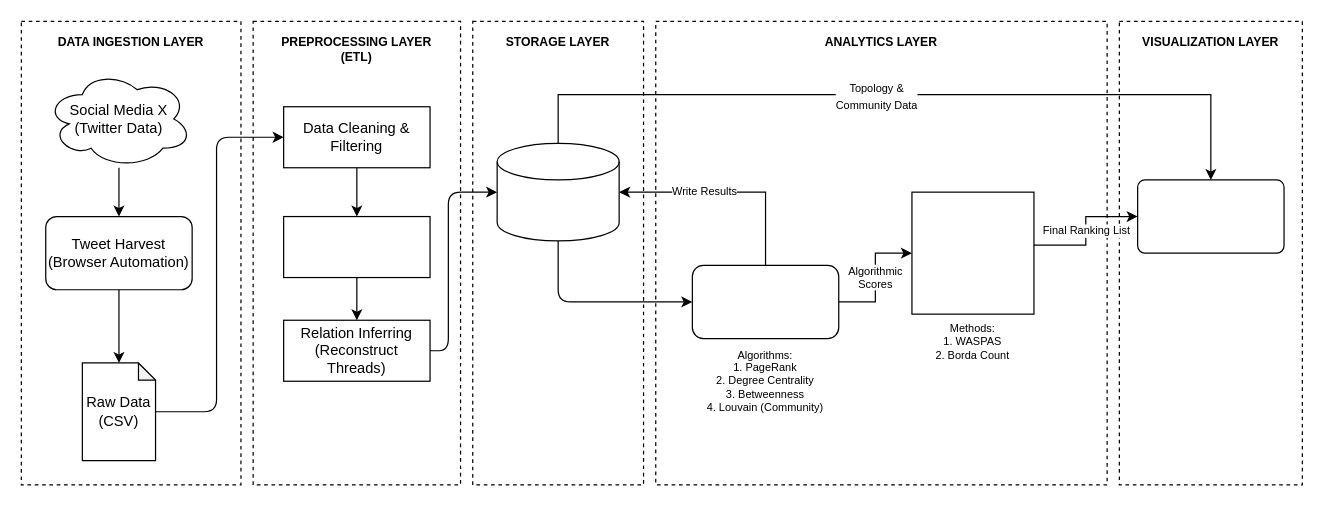
Some shapes in this 1324 by 506 pixel diagram are drawn without their labels. Each missing label, with the centre of its shape:
COMPARATIVE RANK AGGREGATION: [972,252]
Entity Extraction (Hashtag/Mention): [356,246]
GDS Library (In-Memory Projection): [765,301]
Neo4j Graph Database (Nodes & Edges): [557,191]
NeoDash (Web Dashboard): [1210,216]
